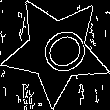O_SW: (24, 19, 89, 82)
